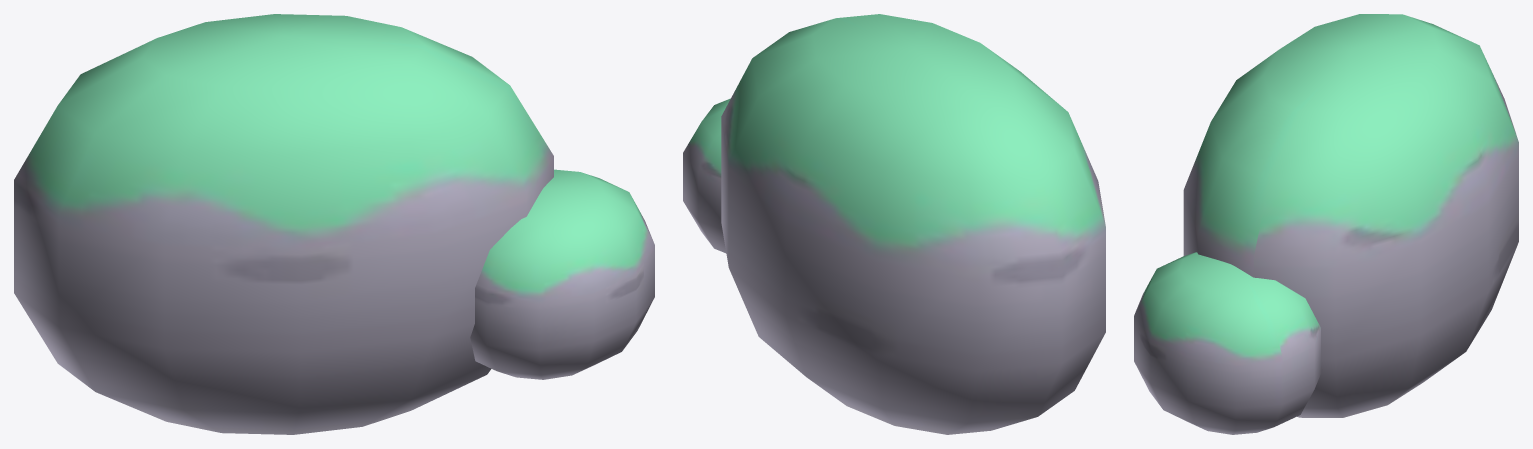
Rendered from rock_1.glb.
The picture shows the model from 3 angles, left to right: view 1: azimuth 30°, elevation 25°; view 2: azimuth 150°, elevation 25°; view 3: azimuth 270°, elevation 25°; orthographic projection. The views are drawn at different scales.
Visible parts, largest first — view 1: rock_1; view 2: rock_1; view 3: rock_1.
Part boxes in pixels (x1,y1,x2,y2): rock_1: [14, 14, 654, 434]; rock_1: [683, 14, 1105, 434]; rock_1: [1134, 14, 1518, 434].
Bounding box in the file's own units: 3.42 × 2.4 × 2.51.
1 material, 1 textured.
